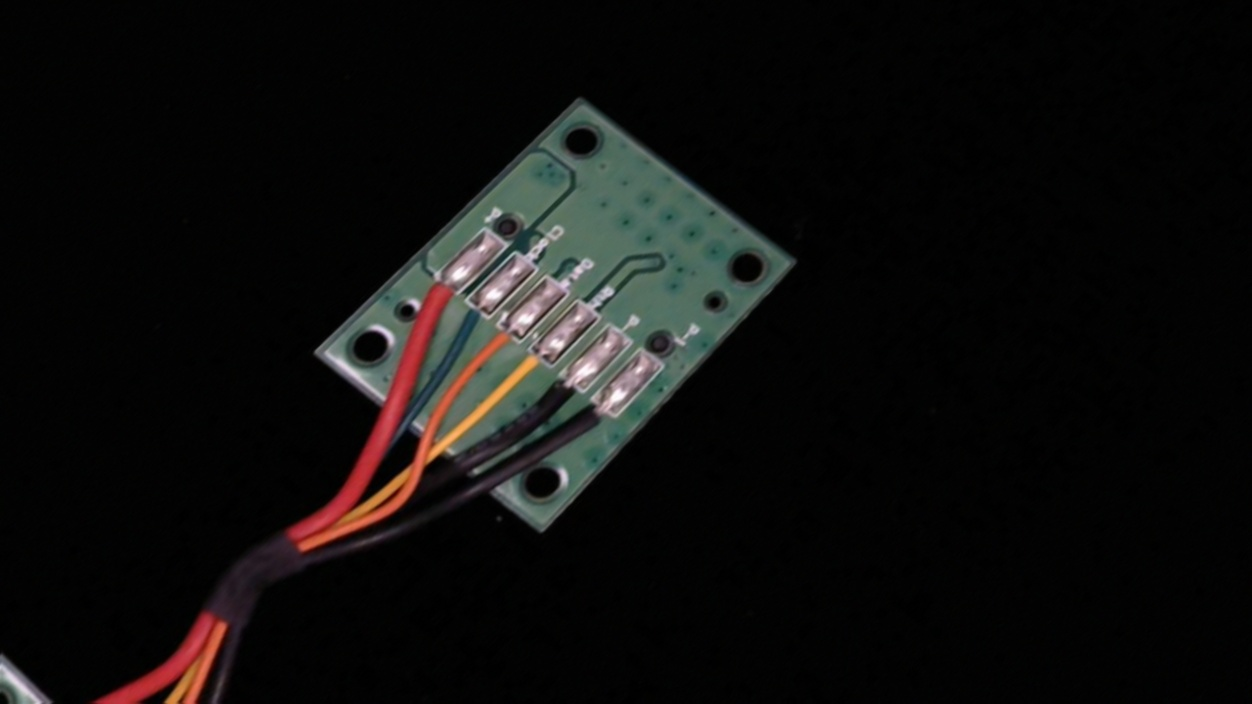Black: (509, 358, 602, 441)
Black1: (546, 385, 633, 464)
Green: (430, 283, 506, 349)
Orange: (447, 312, 534, 389)
Red: (387, 261, 477, 339)
Yellow: (475, 334, 568, 418)
